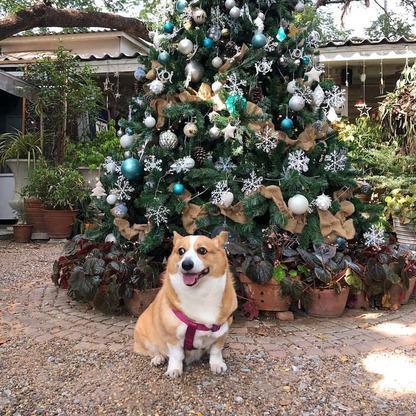Corgi: (120, 216, 248, 382)
